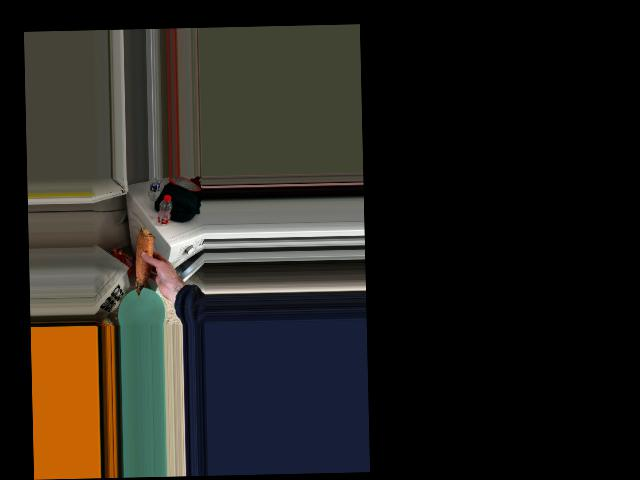sweet_potato: (135, 232, 154, 295)
